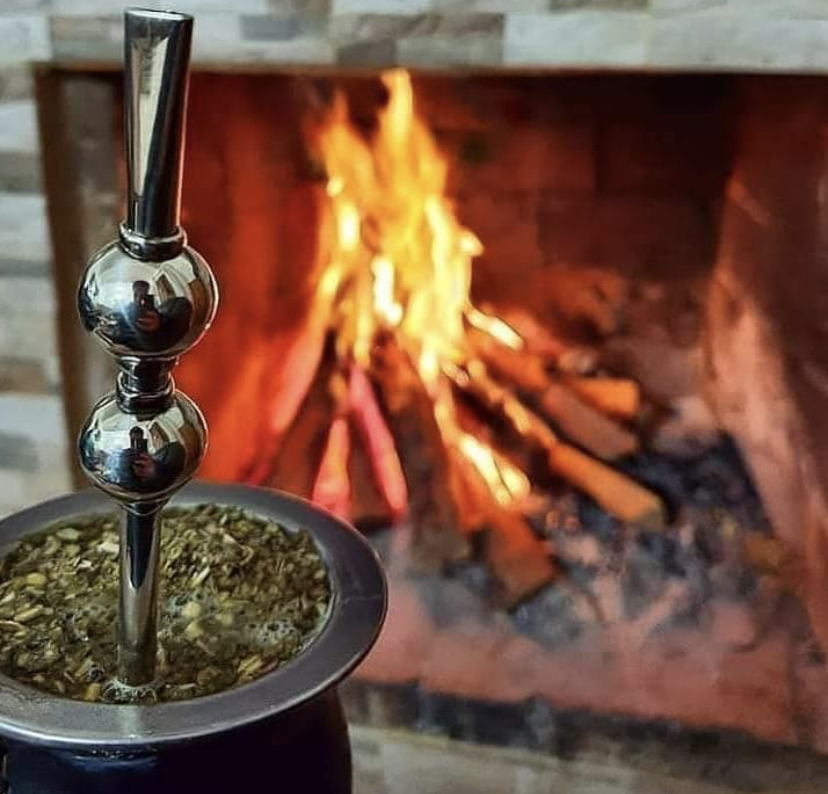calabaza: (1, 465, 400, 790)
mate: (1, 463, 415, 793)
